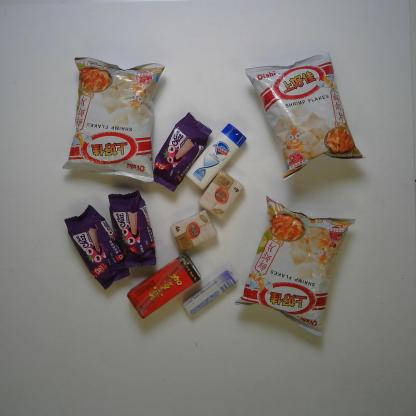Candy: (181, 265, 238, 320)
Dessert: (62, 201, 130, 291), (150, 111, 214, 193), (105, 186, 161, 269)
Drink: (125, 250, 203, 321)
Personal Hygiene: (184, 120, 248, 194)
Puffed Food: (231, 191, 360, 341), (240, 46, 369, 182), (57, 52, 172, 188)
Tissue: (195, 168, 247, 219), (168, 208, 220, 256)
